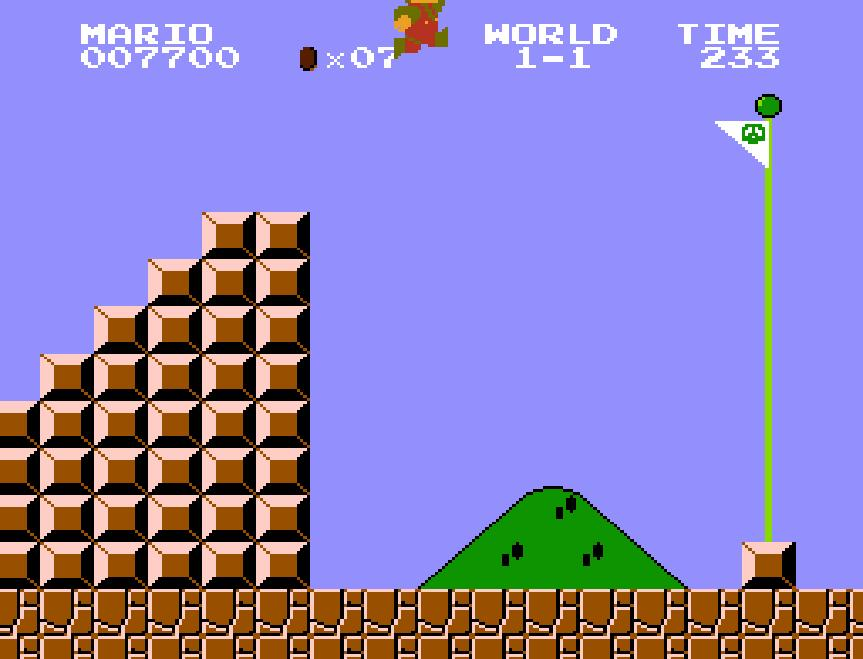big_mario: (392, 0, 450, 59)
